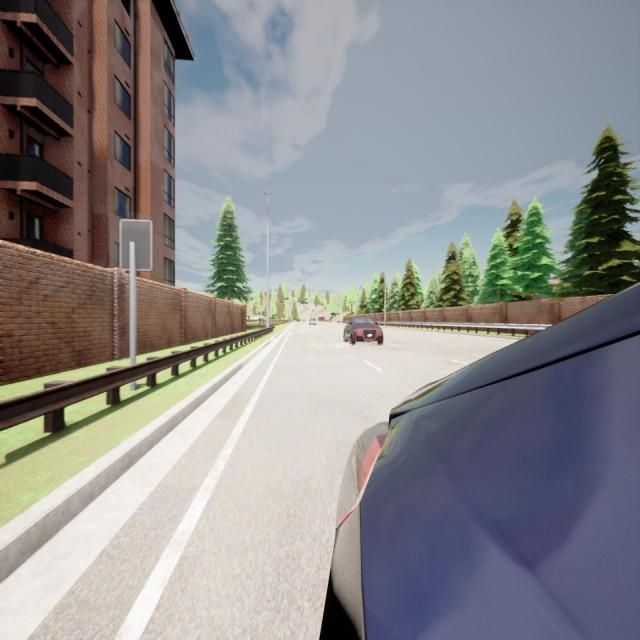Traffic_Signs: (118, 220, 153, 272)
Vehicle: (323, 283, 640, 638), (343, 315, 383, 345), (308, 318, 316, 326), (318, 316, 325, 322), (296, 318, 300, 322), (302, 319, 306, 322)
